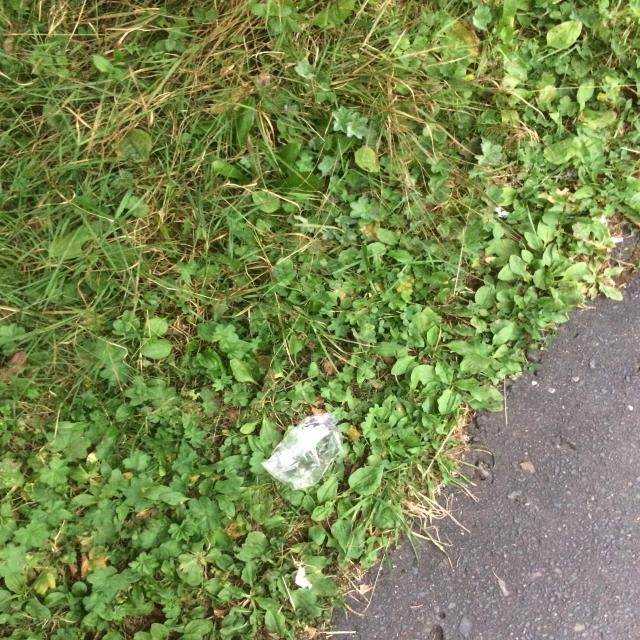Plastic film: (260, 410, 343, 490)
